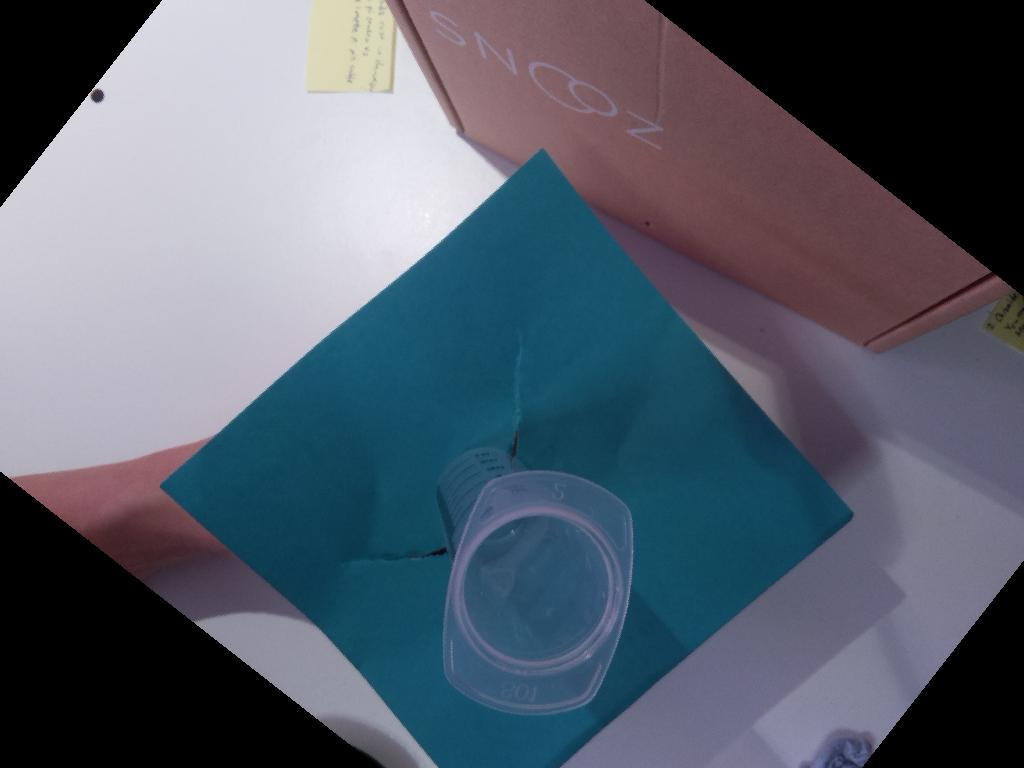clean: (441, 467, 633, 717)
